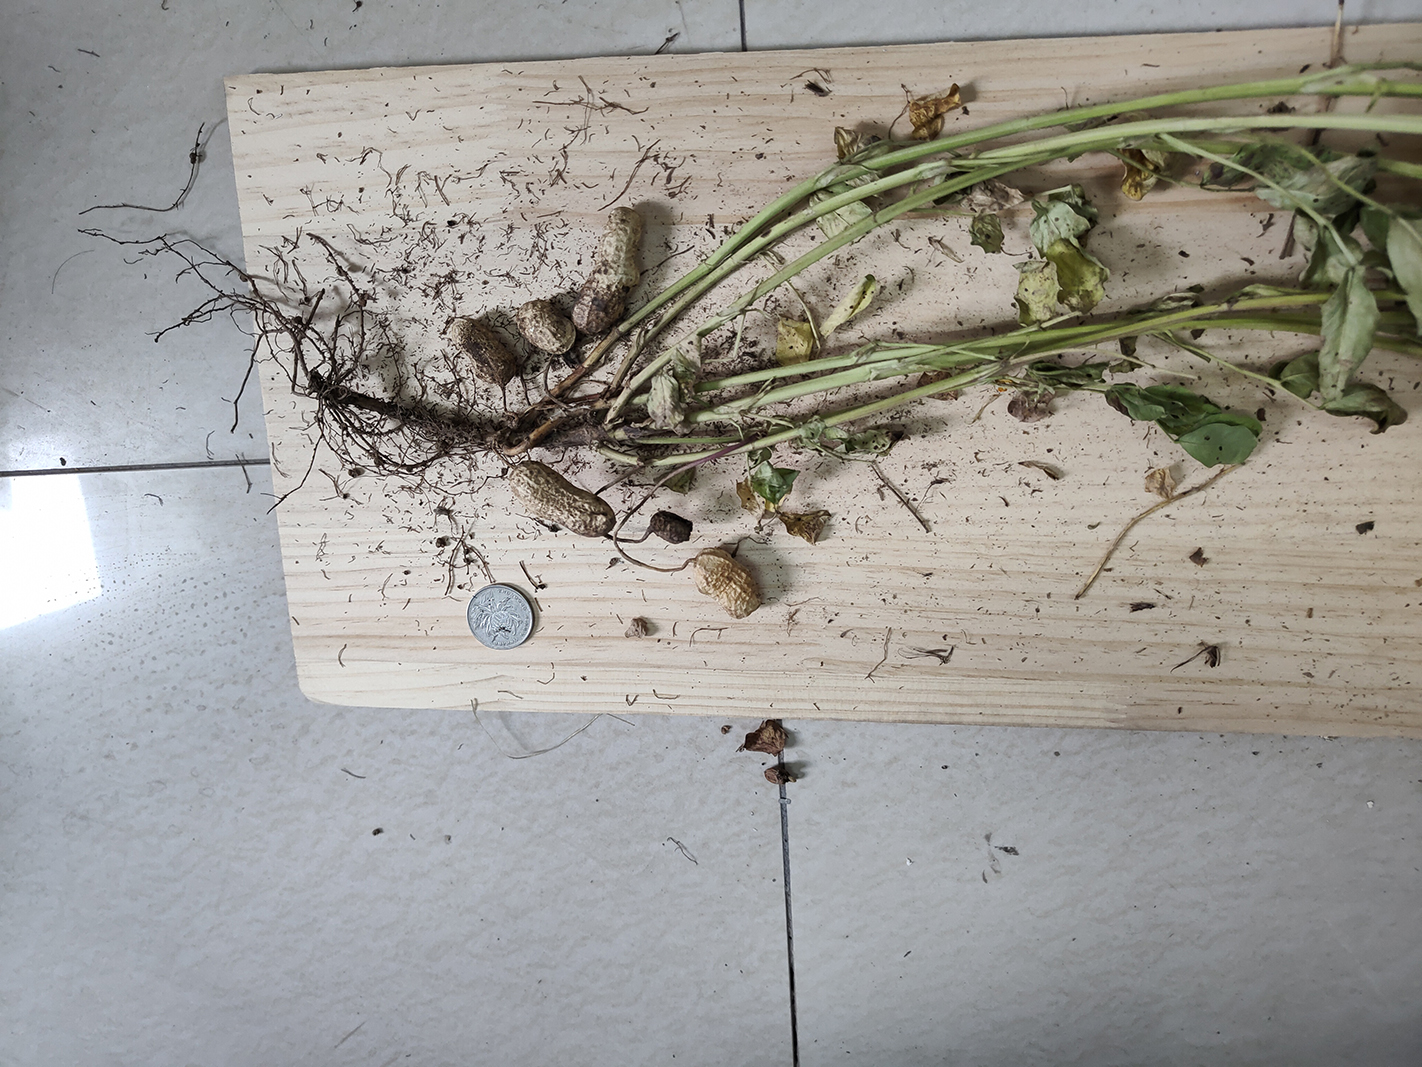h: (574, 207, 644, 335), (511, 464, 616, 539), (691, 549, 759, 618), (517, 301, 575, 353)
l: (447, 317, 514, 386), (650, 508, 694, 546)
